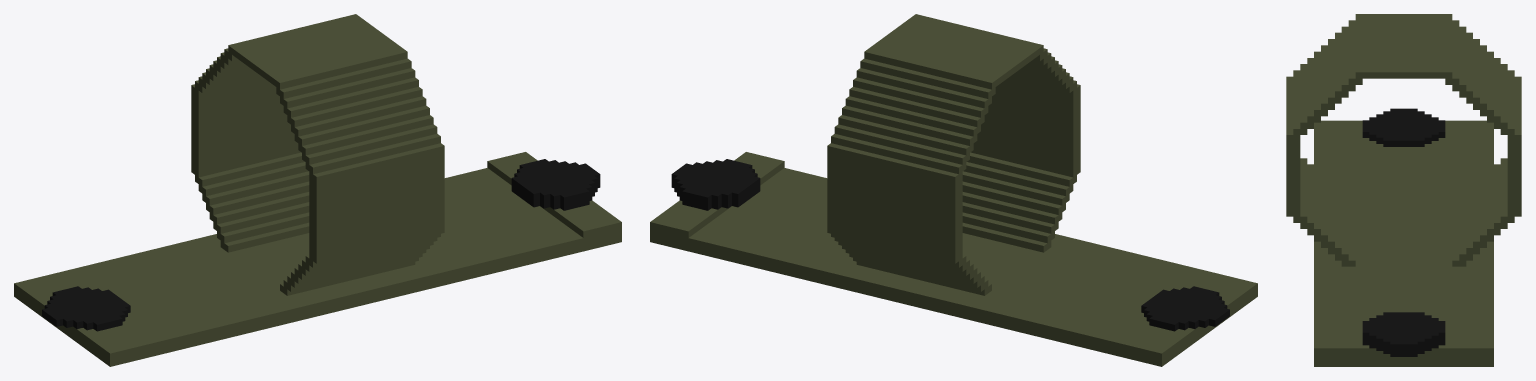
The model's file is belt_loop_large.glb.
3 renders of one model, left to right at view 1: azimuth 30°, elevation 25°; view 2: azimuth 150°, elevation 25°; view 3: azimuth 270°, elevation 25°, orthographic. The views are drawn at different scales.
Parts seen in each view (by area): view 1: belt_loop_large:compound; view 2: belt_loop_large:compound; view 3: belt_loop_large:compound.
Boxes of the visible parts, x1=… form: belt_loop_large:compound: x1=14, y1=14, x2=621, y2=366; belt_loop_large:compound: x1=650, y1=14, x2=1257, y2=366; belt_loop_large:compound: x1=1286, y1=14, x2=1521, y2=366.
Bounding box in the file's own units: 0.17 × 0.066 × 0.068.
